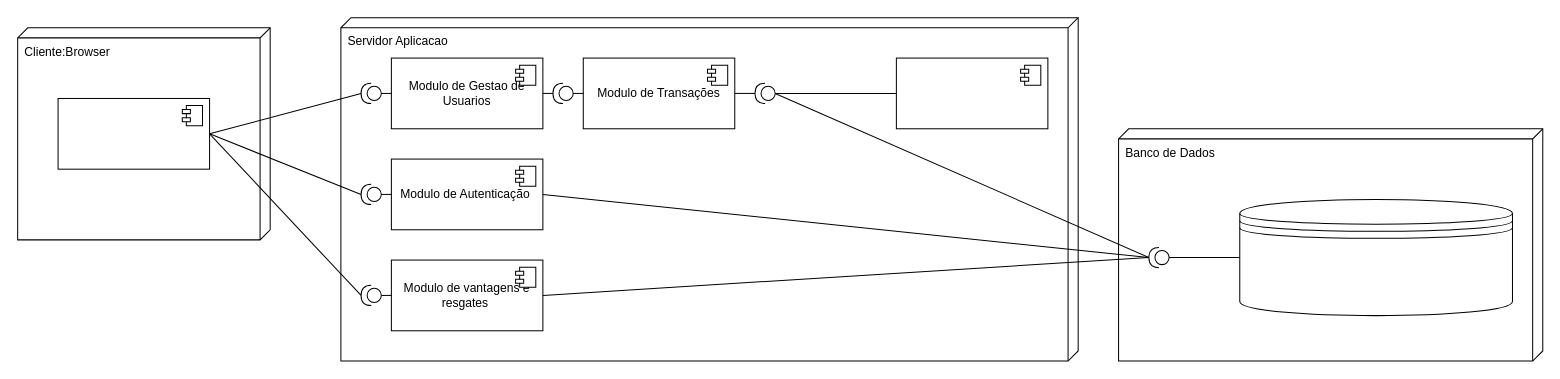
The diagram is 1560 pixels wide and 379 high, and some of its shapes have lost their labels. Here are the shapes that lost their labels. From the top down, the centre of each, then its label:
[971,93]: Modulo de notificações
[133,133]: Interface de Usuario
[1375,257]: My Sql
